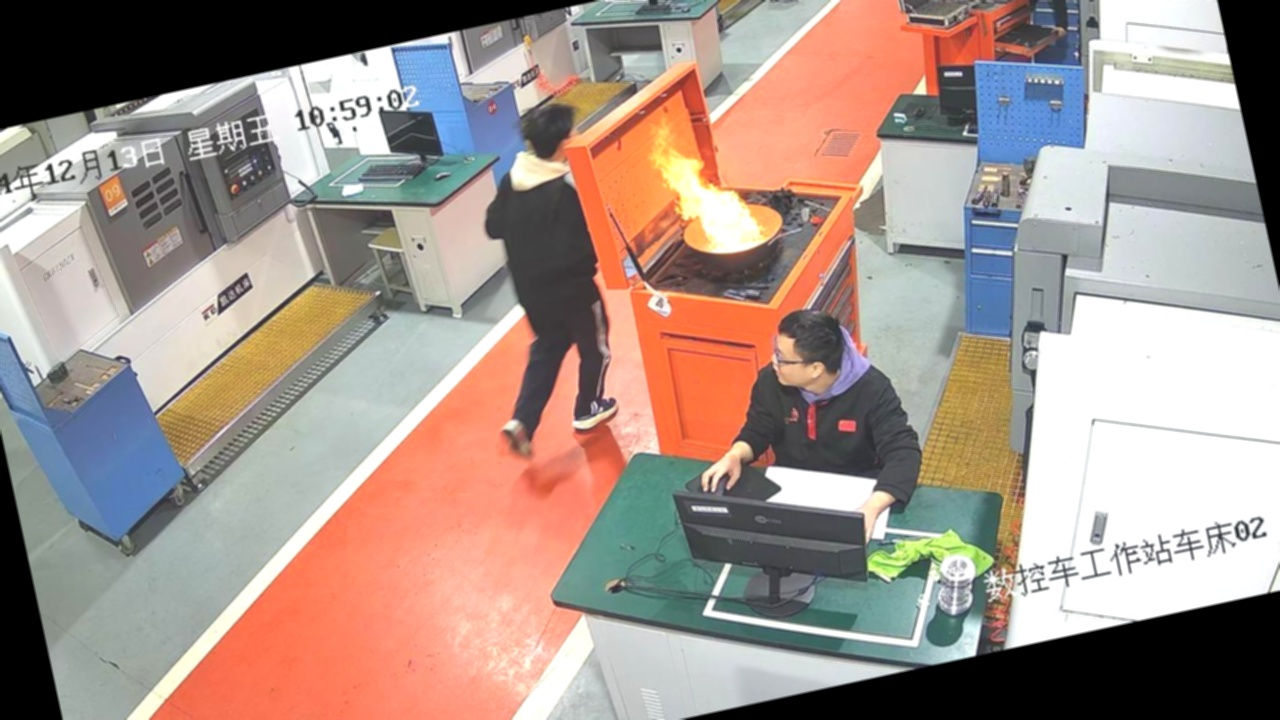fire: (627, 103, 783, 270)
